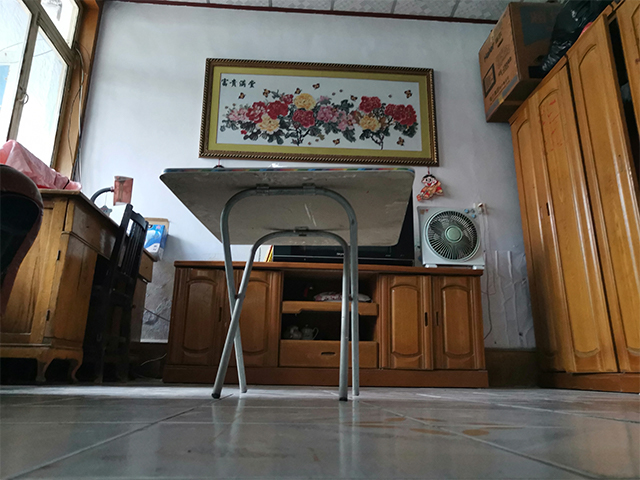cabinet: (506, 1, 639, 397), (160, 259, 493, 390), (1, 188, 158, 386)
table: (159, 163, 418, 402)
